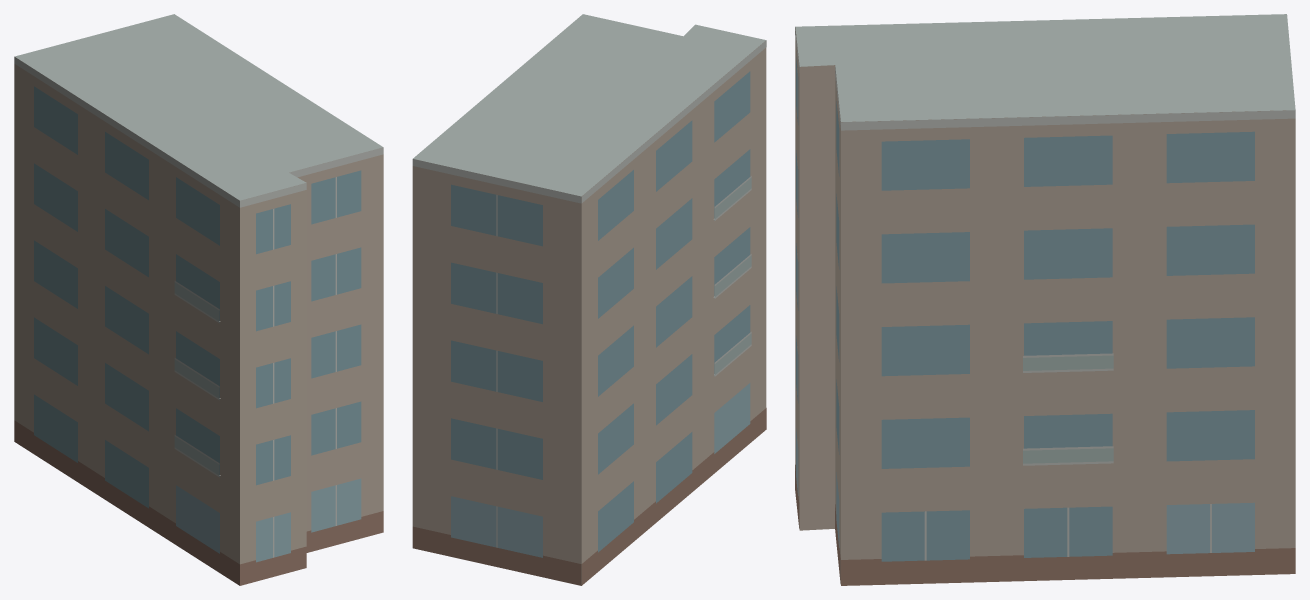
The model's file is survey-upis-32987054.glb.
3 renders of one model, left to right at view 1: azimuth 30°, elevation 25°; view 2: azimuth 150°, elevation 25°; view 3: azimuth 270°, elevation 25°, orthographic. The views are drawn at different scales.
Parts seen in each view (by area): view 1: survey-upis-32987054.tmp; view 2: survey-upis-32987054.tmp; view 3: survey-upis-32987054.tmp.
Boxes of the visible parts, x1,y1,x2,y2 form: survey-upis-32987054.tmp: (14, 14, 383, 585); survey-upis-32987054.tmp: (412, 14, 766, 585); survey-upis-32987054.tmp: (795, 14, 1295, 585).
Size of the model in its own units: 6.66 by 13.3 by 13.01.
